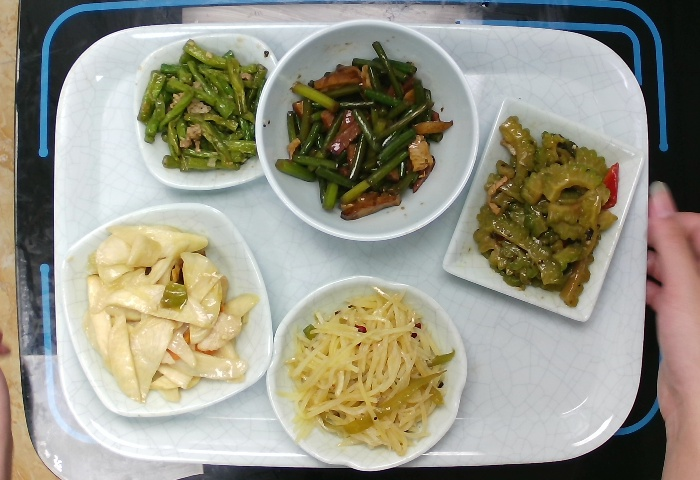JYsf-Ao_Yuan_Wan: (266, 274, 468, 474)
JYsf-Fan_Wan: (252, 17, 481, 241)
JYsf-Si_Fang_Die: (134, 34, 282, 195)
WCQzf-Da_Si_Fang_Die: (64, 199, 275, 418)
WCQzf-Ru_Ci_Si_Fang_Die: (441, 98, 644, 327)
